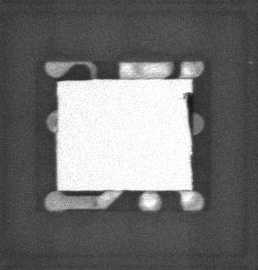DIE_BROKEN: (181, 90, 193, 132)
